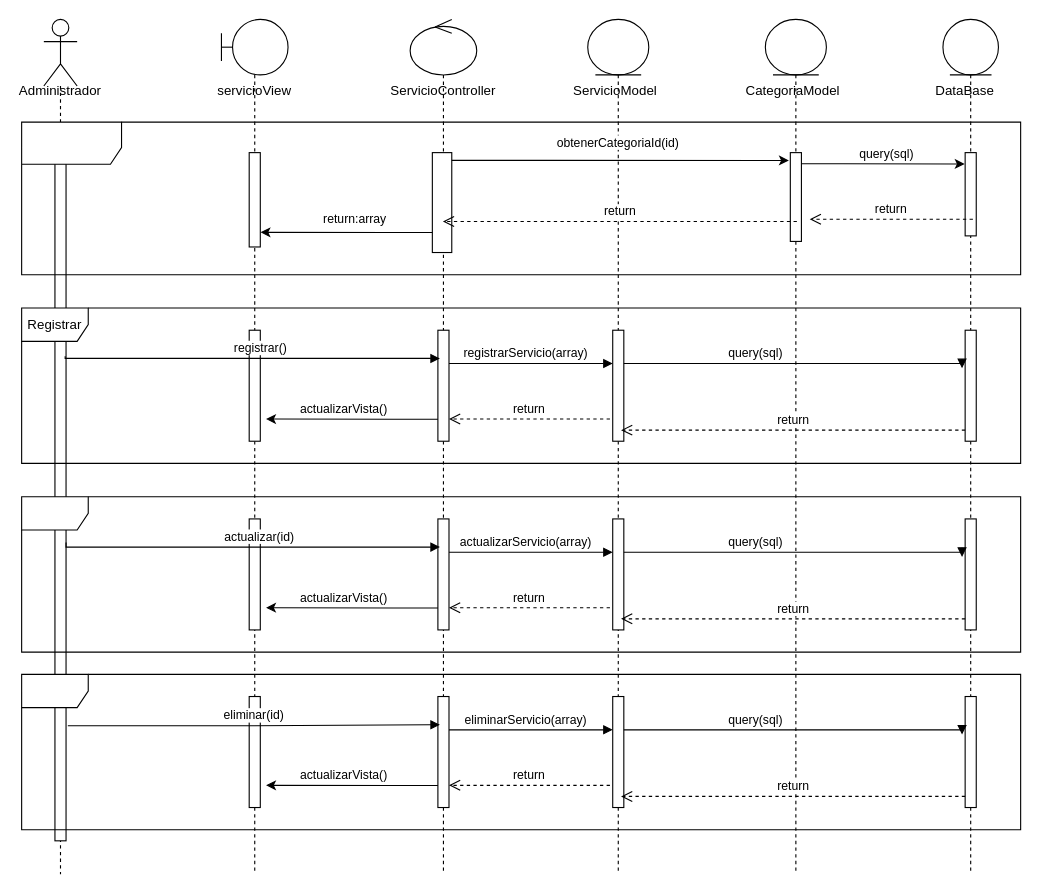
This 1040x894 diagram has some shape labels left out. The centre of each missing label's shape, as x and y in pixels:
"Actualizar" belongs at point (521, 574).
"Eliminar" belongs at point (521, 751).
"listar Categorias" belongs at point (521, 198).
